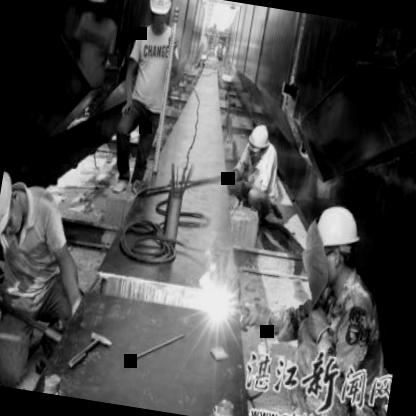helmet: (306, 196, 368, 289), (0, 167, 24, 243), (241, 118, 273, 164), (144, 0, 175, 29)
